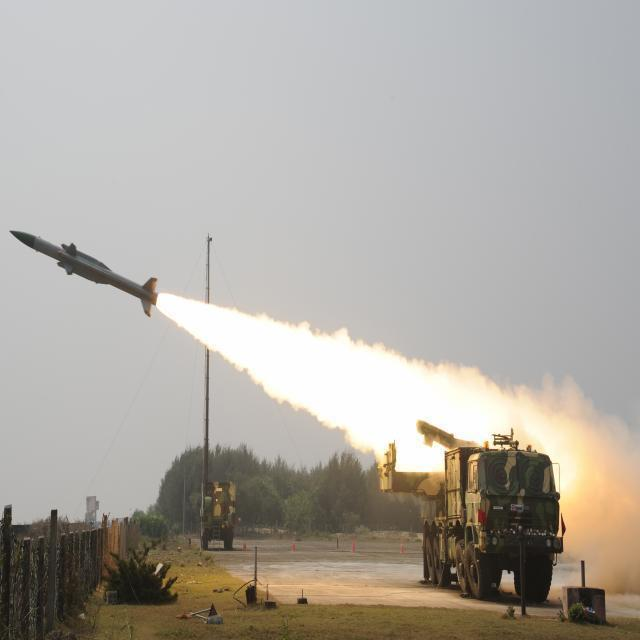missile: (10, 228, 160, 321), (158, 298, 163, 300)
